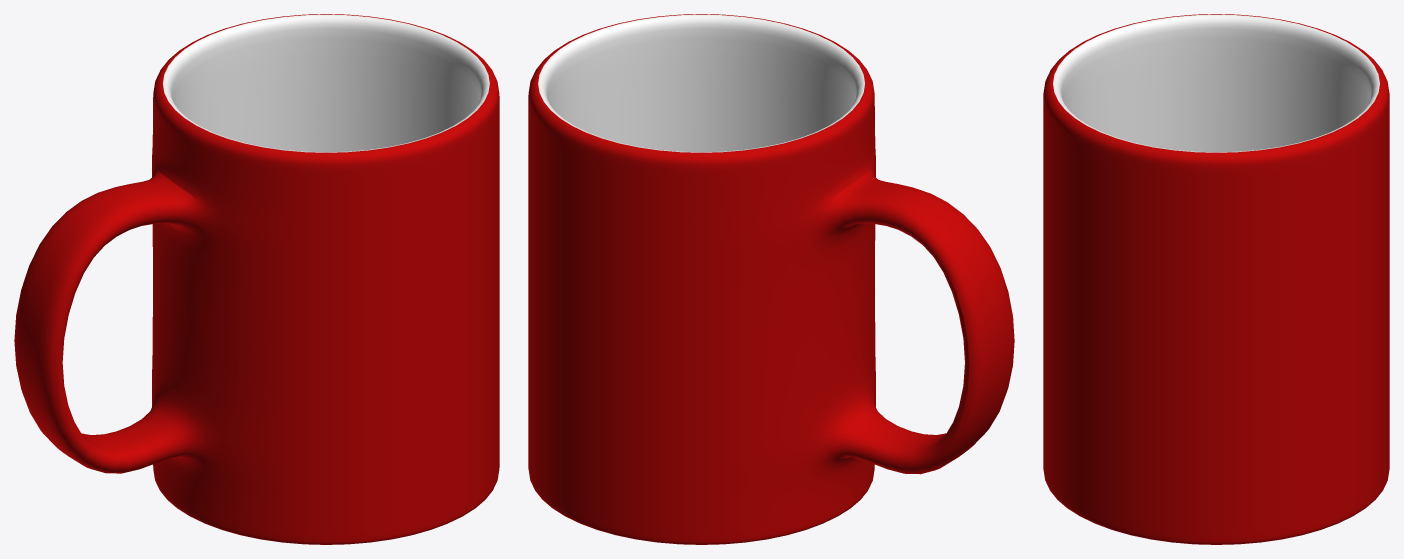
File: cup.glb
3 renders of one model, left to right at view 1: azimuth 30°, elevation 25°; view 2: azimuth 150°, elevation 25°; view 3: azimuth 270°, elevation 25°, orthographic.
Visible parts, largest first — view 1: Circle_0; view 2: Circle_0; view 3: Circle_0.
Boxes of the visible parts, x1=… form: Circle_0: x1=14, y1=14, x2=499, y2=544; Circle_0: x1=528, y1=14, x2=1014, y2=544; Circle_0: x1=1043, y1=14, x2=1389, y2=544.
Bounding box in the file's own units: 2.86 × 2.37 × 1.91.
